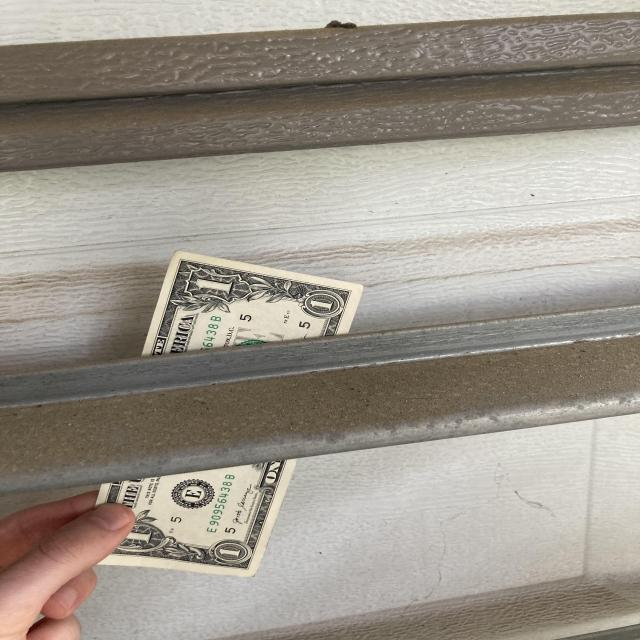one: (60, 219, 365, 621)
